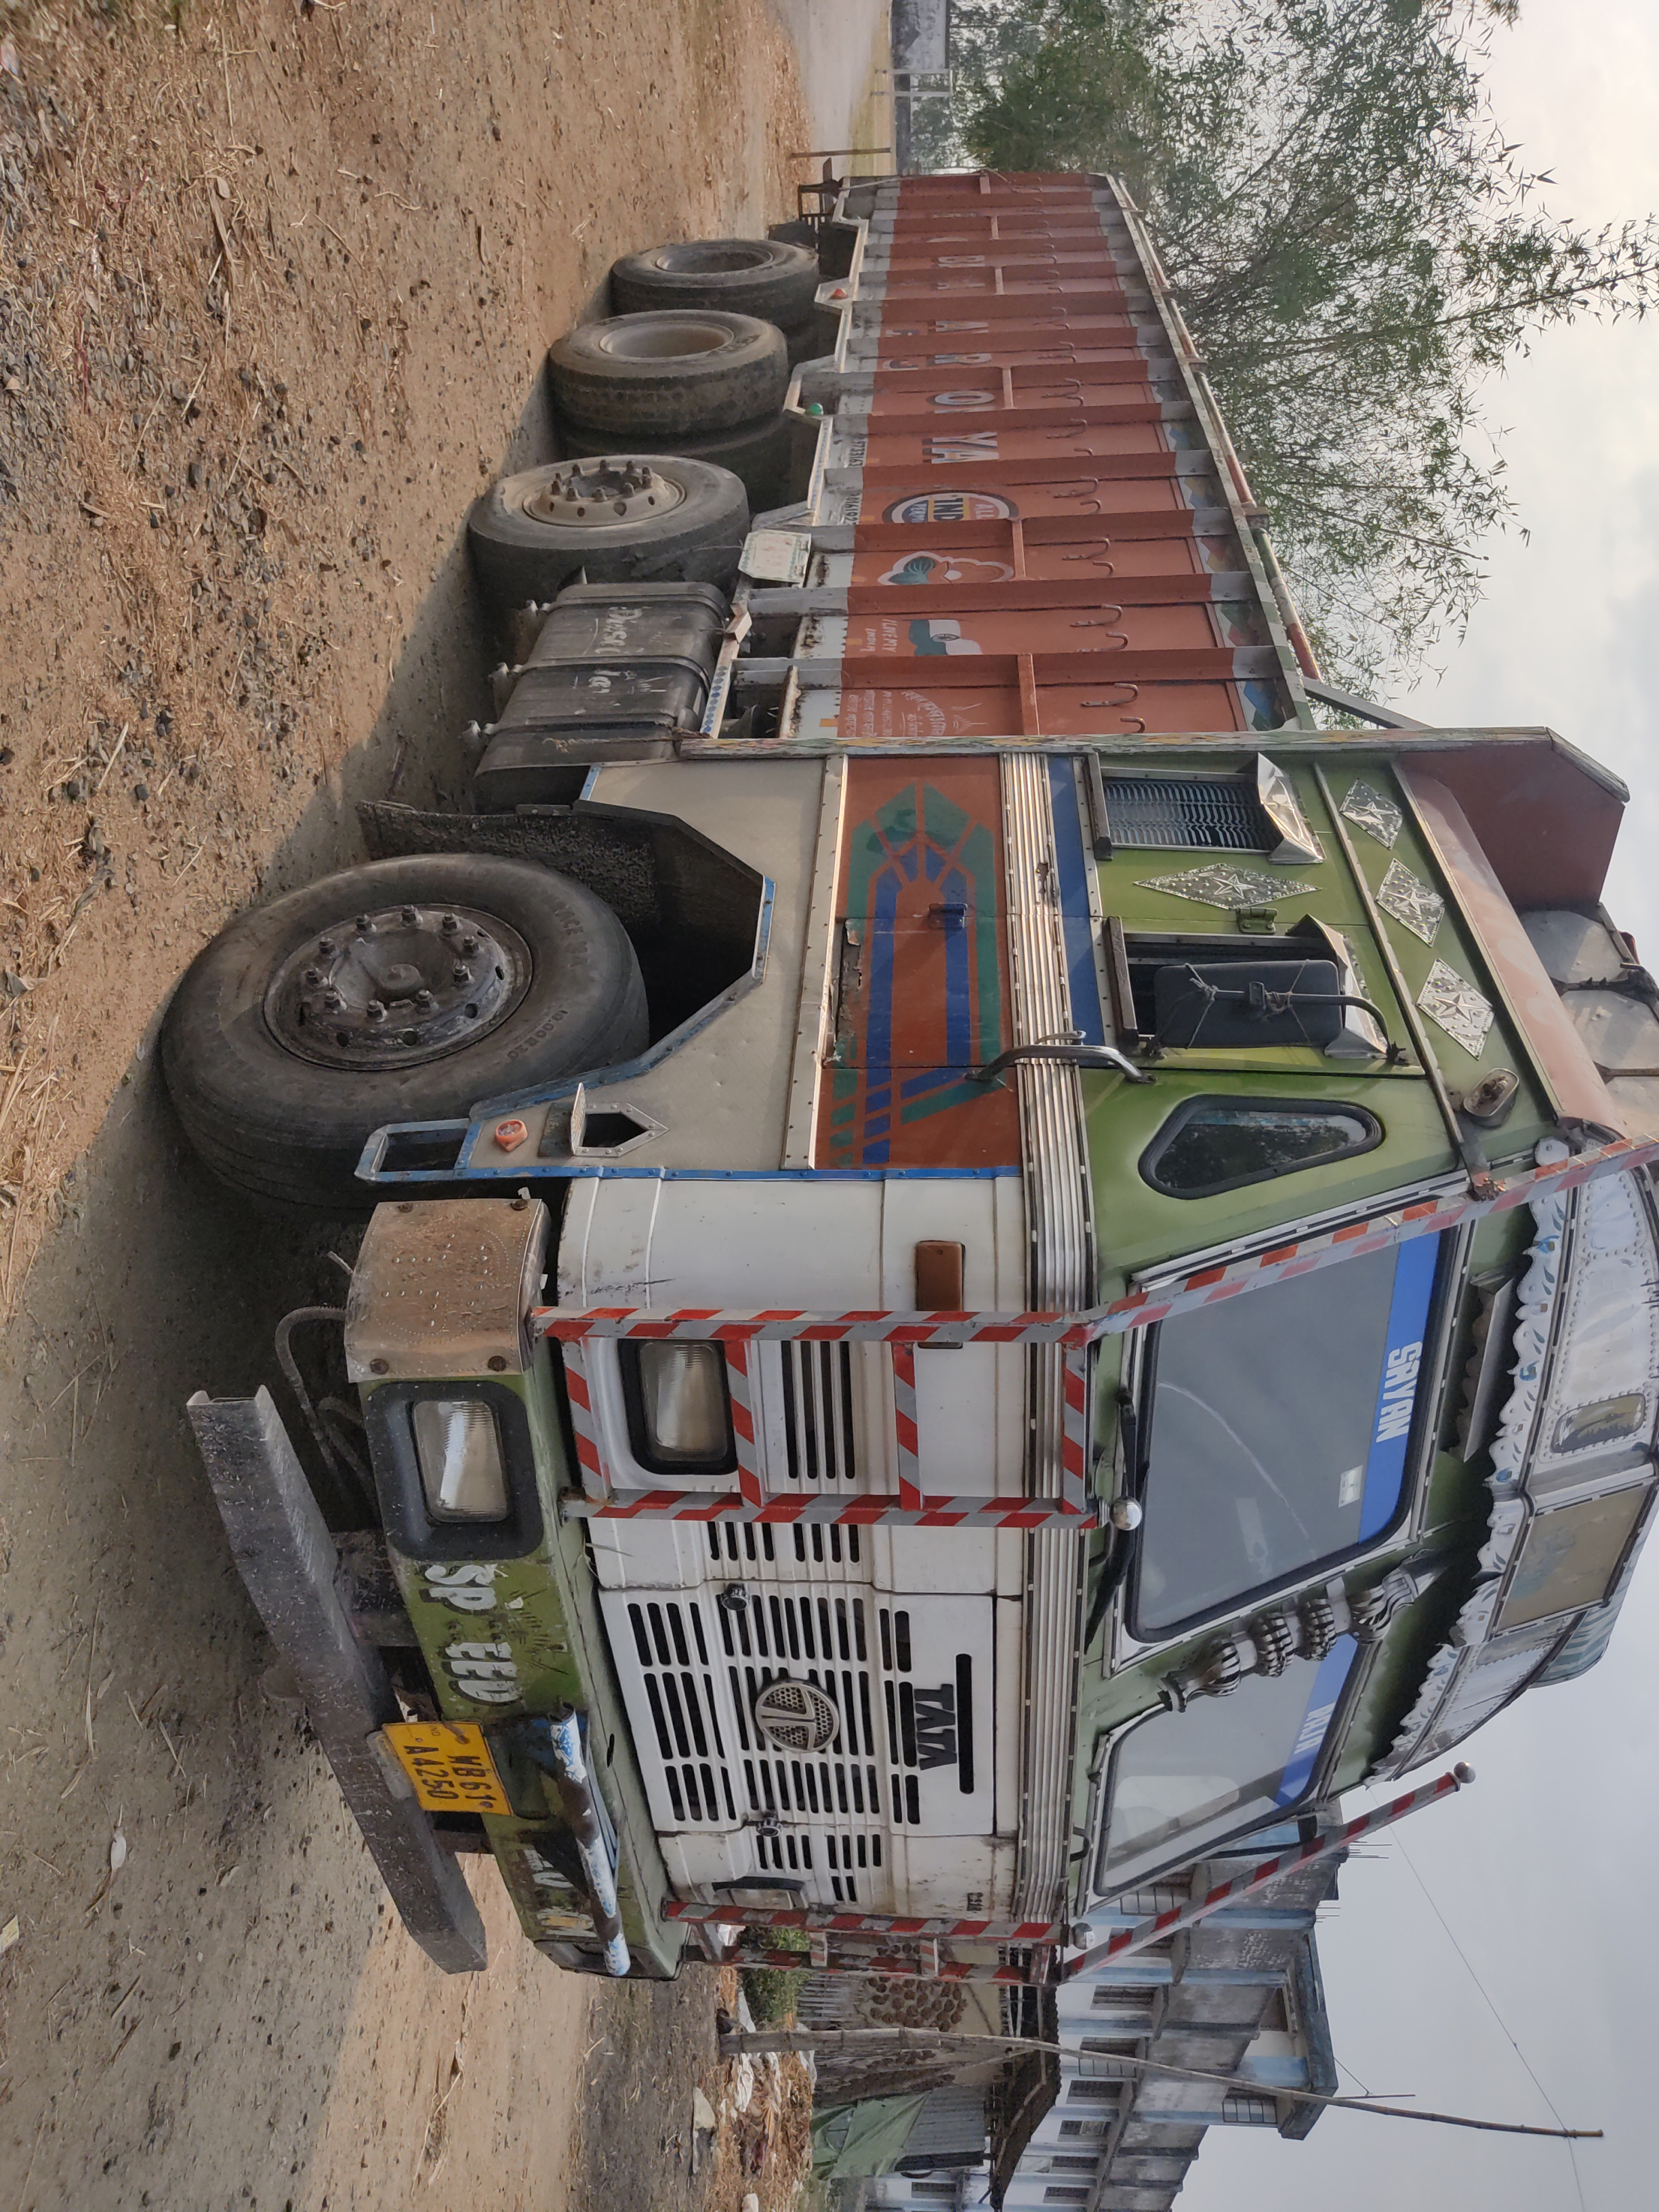truck: (146, 150, 1659, 1996)
